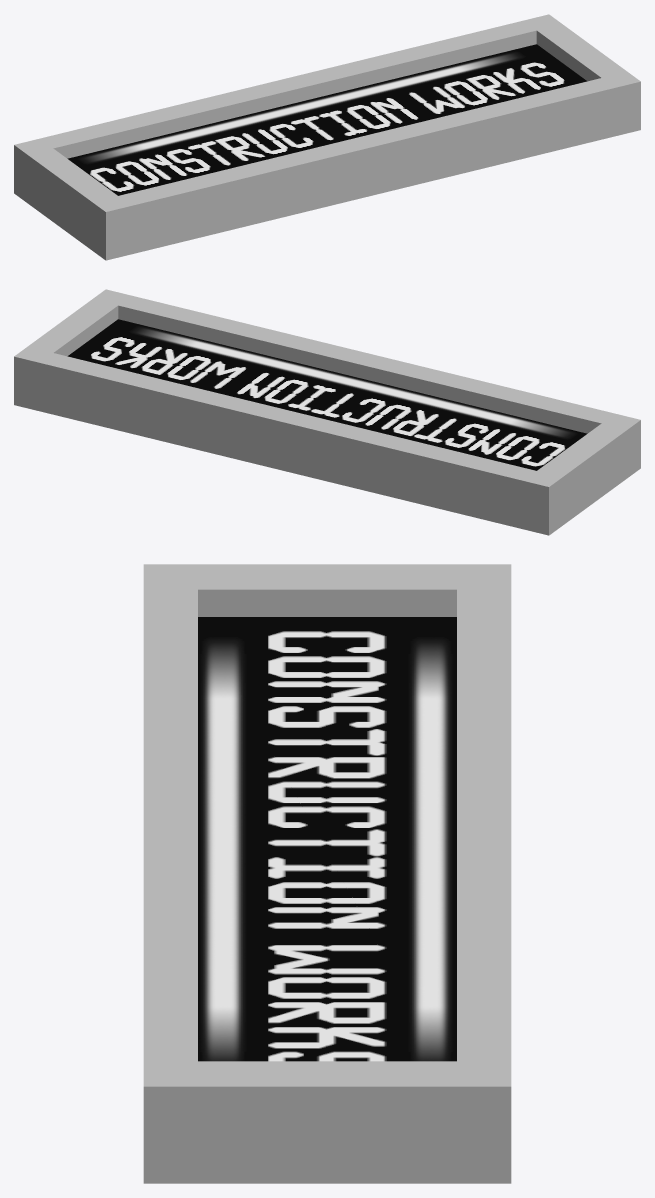
The model's file is Neon_lamp.fbx.
3 views of the same model, one above another, from view 1: azimuth 30°, elevation 25°; view 2: azimuth 150°, elevation 25°; view 3: azimuth 270°, elevation 25° (orthographic). The views are drawn at different scales.
Visible parts, largest first — view 1: Neon lamp; view 2: Neon lamp; view 3: Neon lamp.
Boxes of the visible parts, <box> form: Neon lamp: <box>14,14,640,260</box>; Neon lamp: <box>14,289,640,535</box>; Neon lamp: <box>143,564,511,1183</box>.
Bounding box in the file's own units: 52.61 × 4.56 × 15.64.
